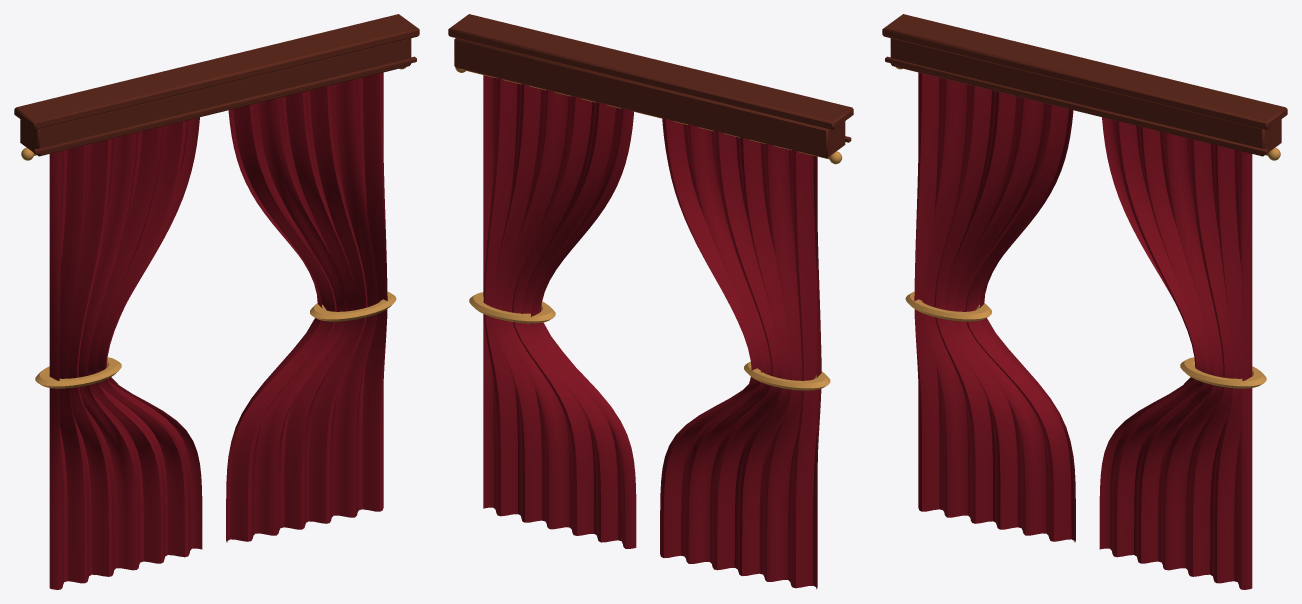
The model's file is Curtains.glb.
3 renders of one model, left to right at view 1: azimuth 30°, elevation 25°; view 2: azimuth 150°, elevation 25°; view 3: azimuth 330°, elevation 25°, orthographic.
Parts seen in each view (by area): view 1: Curtains_Right, Curtains_Left, Curtains_Pelmet, Curtains_Tiebacks; view 2: Curtains_Left, Curtains_Right, Curtains_Pelmet, Curtains_Tiebacks; view 3: Curtains_Left, Curtains_Right, Curtains_Pelmet, Curtains_Tiebacks.
Boxes of the visible parts, box(x1,y1,x2,y2) form: Curtains_Right: box(226, 72, 387, 542); Curtains_Left: box(49, 117, 202, 589); Curtains_Pelmet: box(14, 14, 419, 156); Curtains_Tiebacks: box(35, 291, 396, 388); Curtains_Left: box(660, 118, 821, 589); Curtains_Right: box(483, 75, 636, 548); Curtains_Pelmet: box(448, 14, 853, 158); Curtains_Tiebacks: box(469, 292, 830, 390); Curtains_Left: box(914, 72, 1075, 542); Curtains_Right: box(1099, 117, 1252, 589); Curtains_Pelmet: box(882, 14, 1287, 156); Curtains_Tiebacks: box(905, 291, 1266, 388).
Bounding box in the file's own units: 1.9 × 2.26 × 0.2232.
